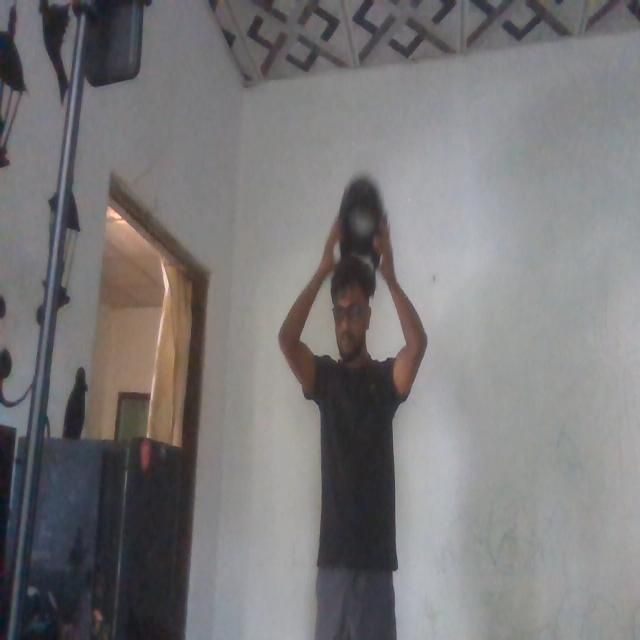Person: (281, 250, 427, 640)
